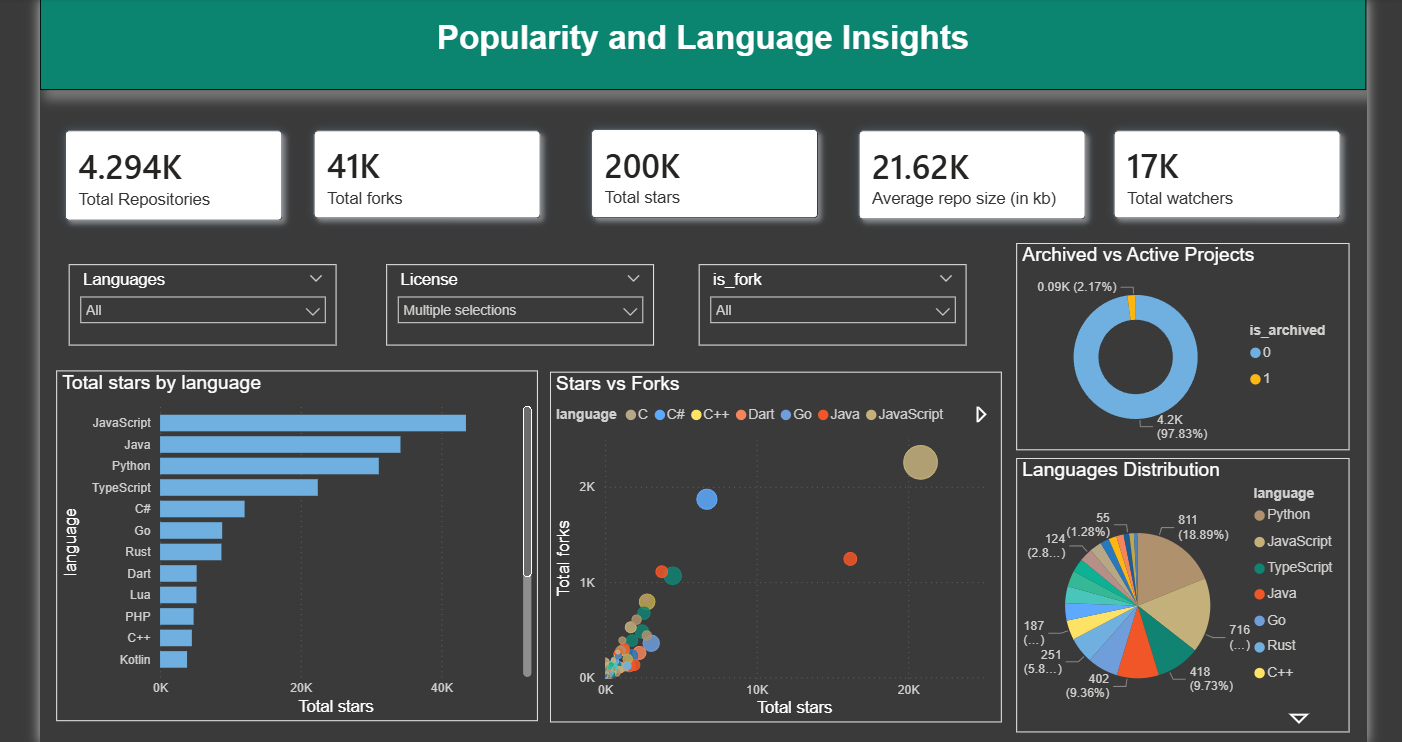

Layout of this report page (visuals, bound fields, positions):
{"tool":"powerbi","page":{"name":"Popularity and Language Insights","canvas":[1280,720],"ordinal":0},"visuals":[{"type":"cardVisual","fields":{"Data":["Count(github_repos.repo_name)"]},"box":[0,103.8,258.8,135],"z":0},{"type":"textbox","box":[0,0,1280.3,89.2],"z":1000},{"type":"cardVisual","fields":{"Data":["Sum(github_repos.forks)"]},"box":[240.1,104.3,267.6,133.1],"z":2000},{"type":"cardVisual","fields":{"Data":["Sum(github_repos.stars)"]},"box":[507.7,102.9,267.6,134.5],"z":3000},{"type":"cardVisual","fields":{"Data":["Avg(github_repos.size_kb)"]},"box":[765.7,104.3,267.6,134.5],"z":4000},{"type":"slicer","fields":{"Values":["github_repos.language"]},"box":[27.5,257.5,258.8,78.8],"z":5000},{"type":"slicer","fields":{"Values":["github_repos.license"]},"box":[333.8,257.5,258.8,78.8],"z":6000},{"type":"slicer","fields":{"Values":["github_repos.is_fork"]},"box":[636.2,257.5,258.8,78.8],"z":7000},{"type":"clusteredBarChart","fields":{"Category":["github_repos.language"],"Y":["Sum(github_repos.stars)"]},"box":[16.2,360,465,338.8],"z":8000},{"type":"scatterChart","title":"Stars vs Forks","fields":{"X":["Sum(github_repos.stars)"],"Y":["Sum(github_repos.forks)"],"Category":["github_repos.stars"],"Series":["github_repos.language"],"Size":["Sum(github_repos.watchers)"]},"box":[492.5,361.2,436.2,338.8],"z":9000},{"type":"donutChart","title":"Archived vs Active Projects","fields":{"Y":["CountNonNull(github_repos.is_archived)"],"Category":["github_repos.is_archived"]},"box":[942.5,236.2,321.2,200],"z":10000},{"type":"pieChart","title":"Languages Distribution","fields":{"Category":["github_repos.language"],"Y":["CountNonNull(github_repos.language)"]},"box":[942.5,443.8,321.2,265],"z":11000},{"type":"cardVisual","fields":{"Data":["Sum(github_repos.watchers)"]},"box":[1012.7,104.3,267.6,133.1],"z":12000}]}

Visuals, with their boxes on the page's 1280x720 design canvas (x1, y1, x2, y2). These are canvas units, not pixel positions in the 1402x742 screenshot, which may show the page scaled, cropped or inside an application window:
cardVisual - Count(github_repos.repo_name): 0,104,259,239
textbox: 0,0,1280,89
cardVisual - Sum(github_repos.forks): 240,104,508,237
cardVisual - Sum(github_repos.stars): 508,103,775,237
cardVisual - Avg(github_repos.size_kb): 766,104,1033,239
slicer - github_repos.language: 28,258,286,336
slicer - github_repos.license: 334,258,593,336
slicer - github_repos.is_fork: 636,258,895,336
clusteredBarChart - github_repos.language x Sum(github_repos.stars): 16,360,481,699
"Stars vs Forks" scatterChart: 492,361,929,700
"Archived vs Active Projects" donutChart: 942,236,1264,436
"Languages Distribution" pieChart: 942,444,1264,709
cardVisual - Sum(github_repos.watchers): 1013,104,1280,237
